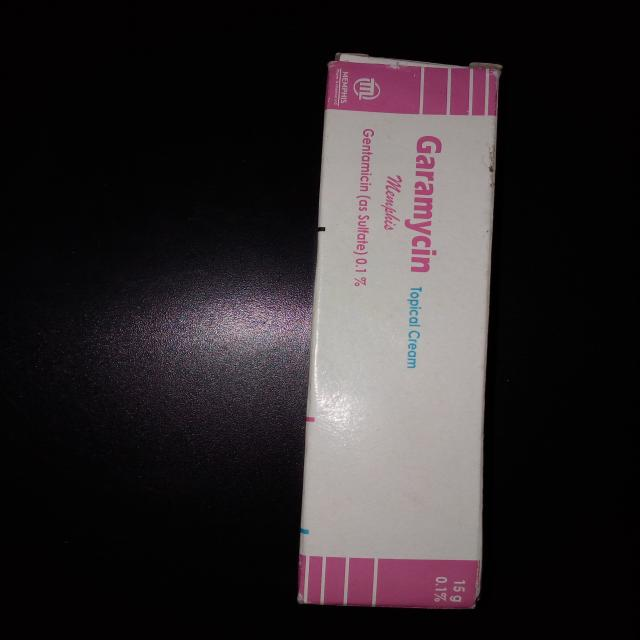Medicine: (292, 50, 503, 613)
